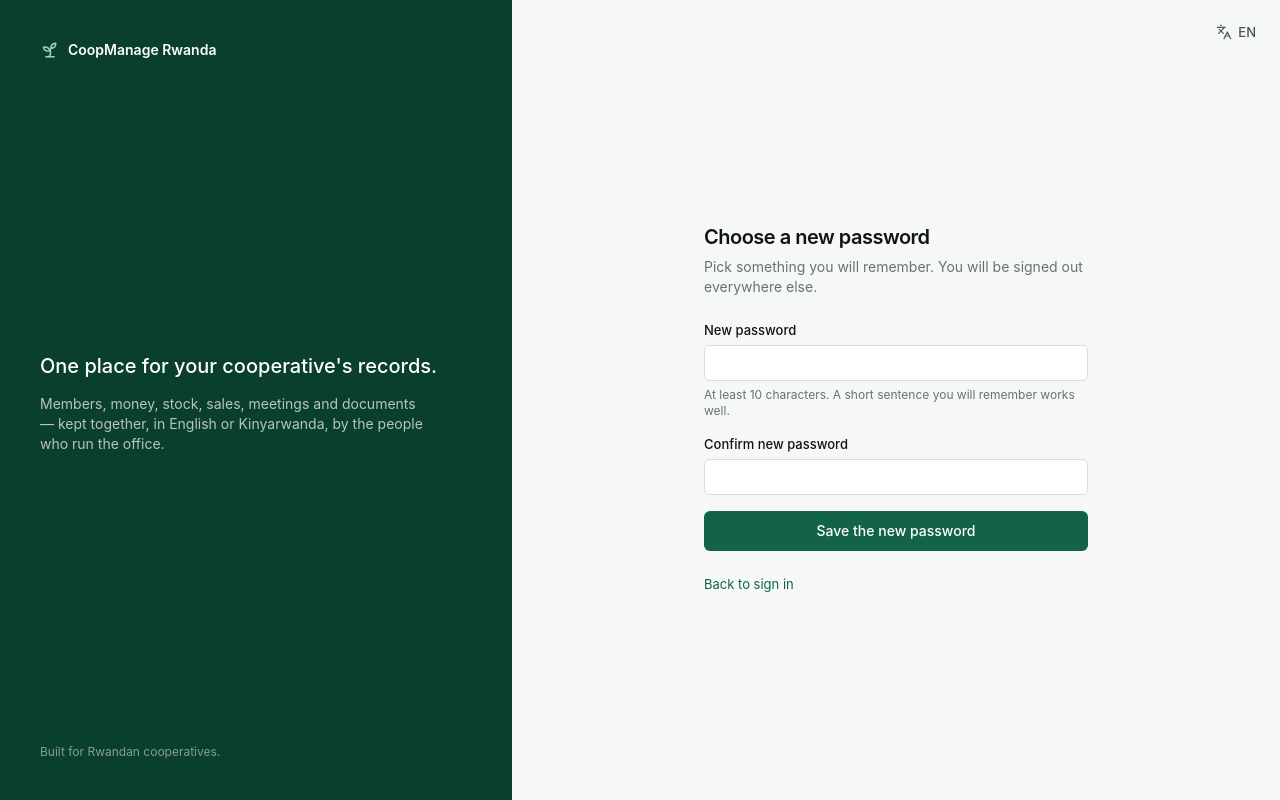
Scenario: choosing a new password › catches two passwords that do not match
This screenshot has width=1280, height=800.
Type "a-good-long-passphrase" into the password field labelled "New password" at (896, 363), box 704,345 -> 1088,381
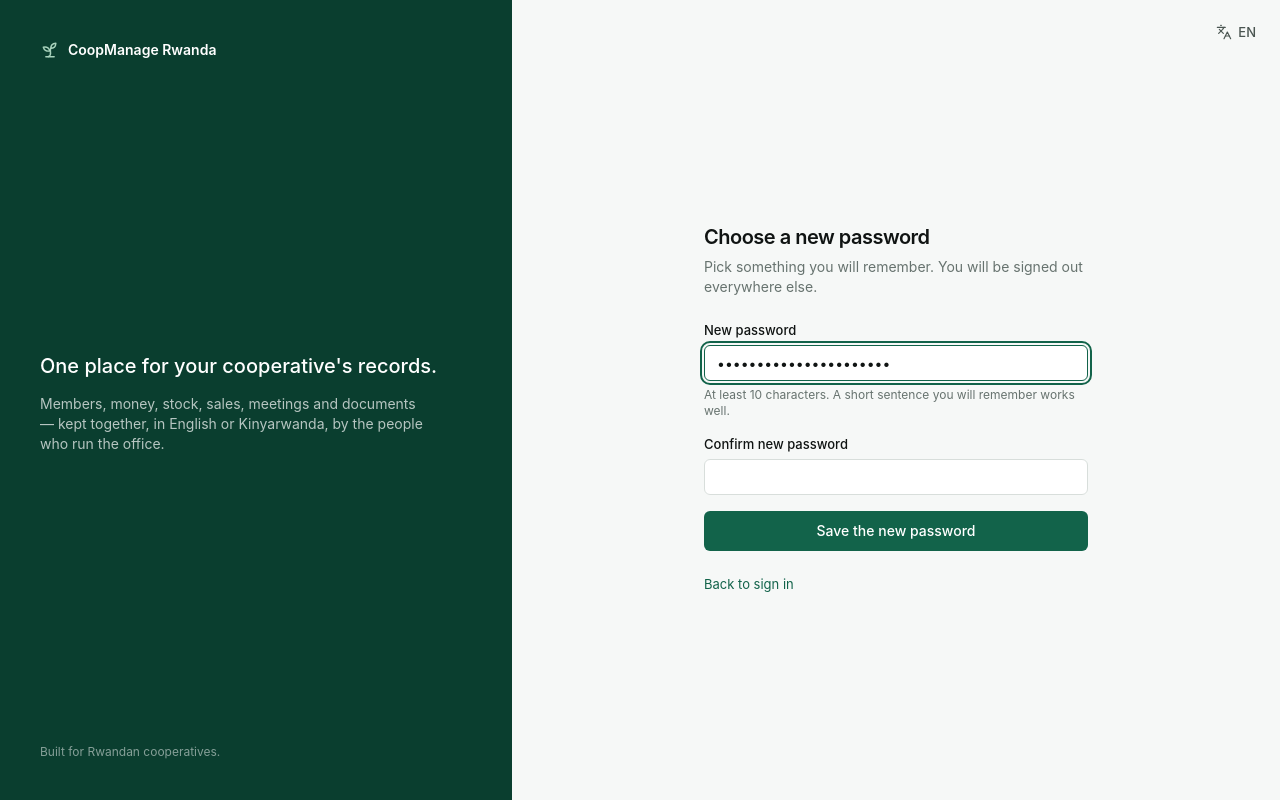
Type "a-good-long-passphrasx" into the password field labelled "Confirm new password" at (896, 477), box 704,459 -> 1088,495
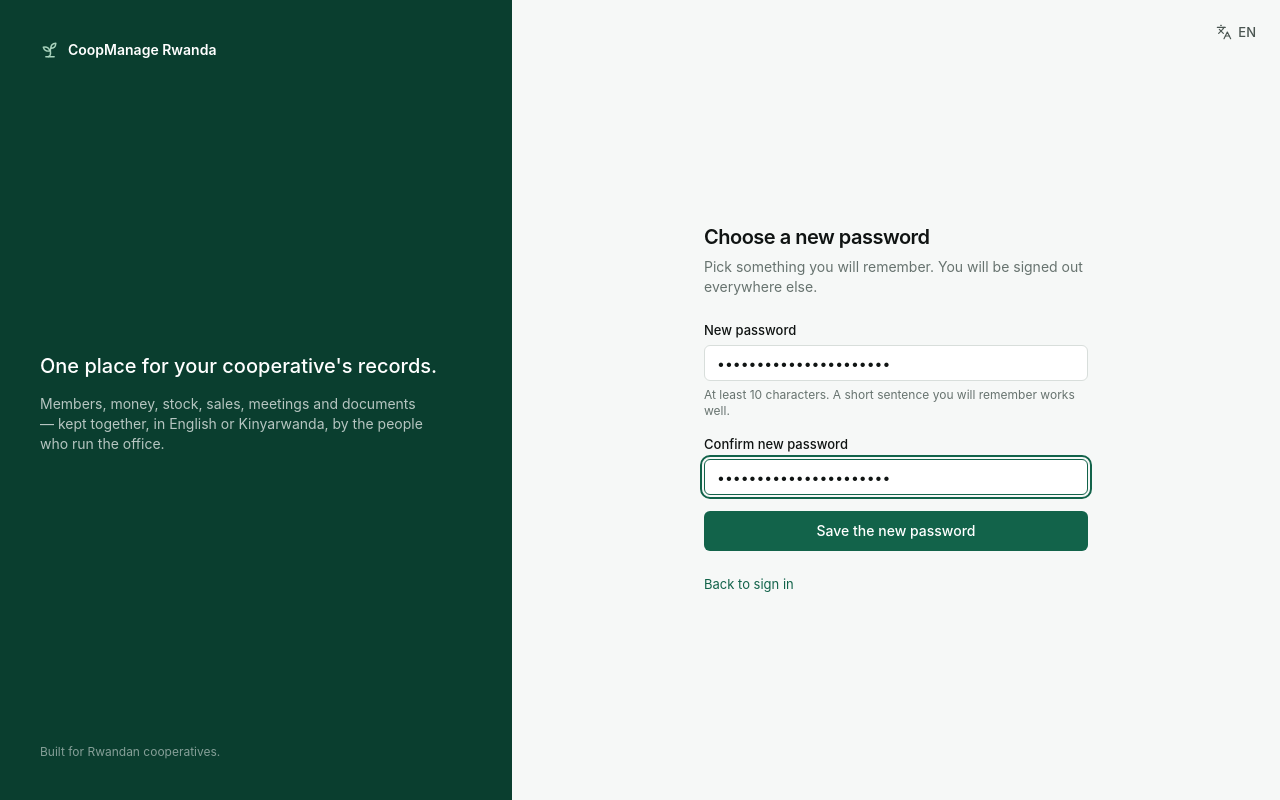
Click the button "Save the new password" at (896, 531), box 704,511 -> 1088,551
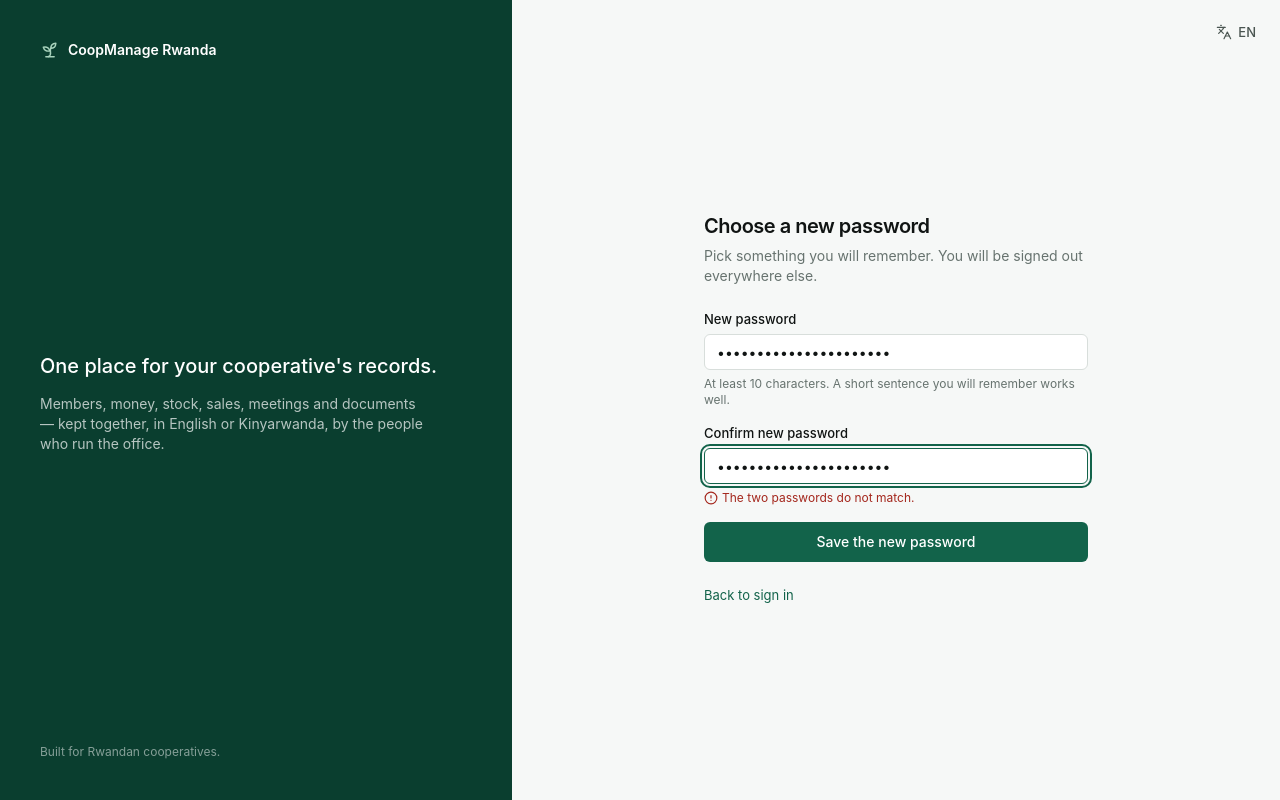
Expected: the text "The two passwords do not match." is shown, 722,490 -> 914,506
